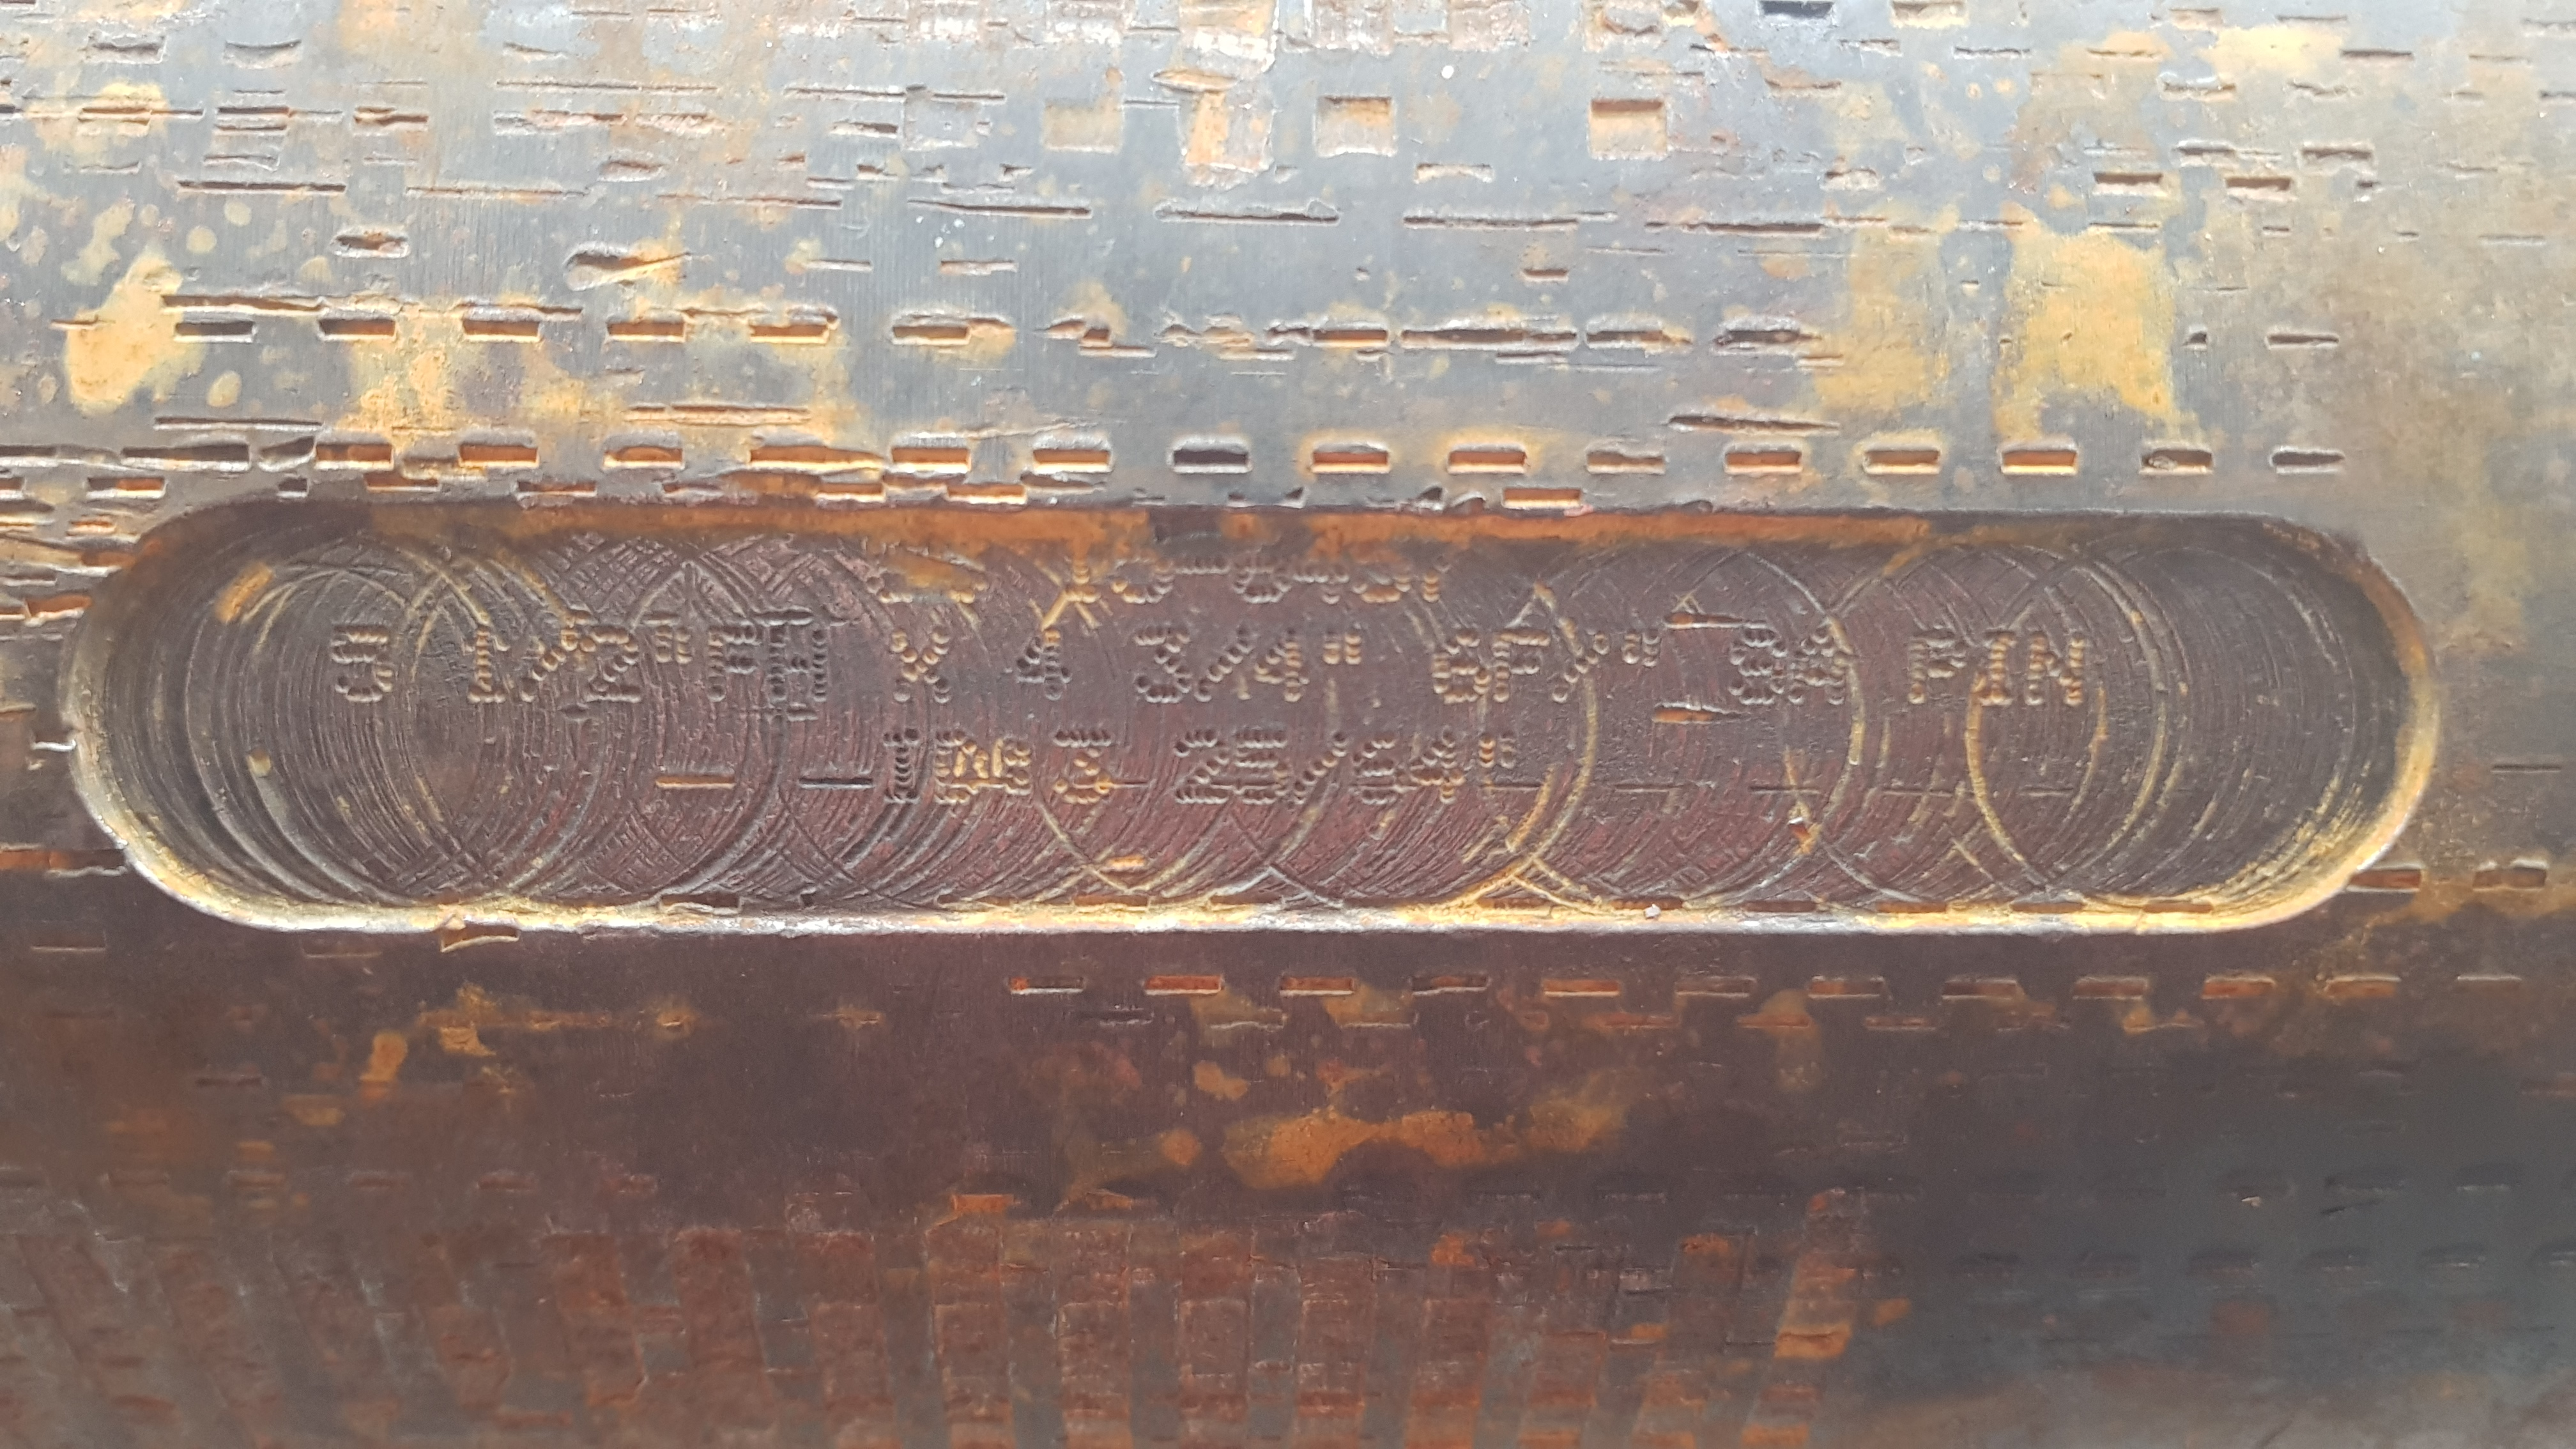character: (320, 609, 414, 706), (881, 623, 966, 715), (761, 623, 840, 720), (510, 614, 584, 717), (571, 623, 649, 718), (2015, 626, 2098, 715), (1122, 621, 1201, 711), (451, 623, 529, 715), (697, 612, 766, 713), (1049, 725, 1127, 812), (1481, 623, 1553, 713), (1010, 623, 1085, 709), (1723, 621, 1790, 715), (1790, 617, 1854, 715), (1897, 626, 1971, 708), (1403, 727, 1477, 809), (1230, 725, 1293, 816), (1971, 617, 2028, 718), (1173, 725, 1237, 812), (1428, 621, 1488, 711), (929, 729, 993, 814), (1249, 628, 1318, 706), (1546, 632, 1615, 708), (1194, 623, 1260, 699), (1292, 727, 1350, 810), (1350, 727, 1405, 814), (883, 722, 925, 814)
